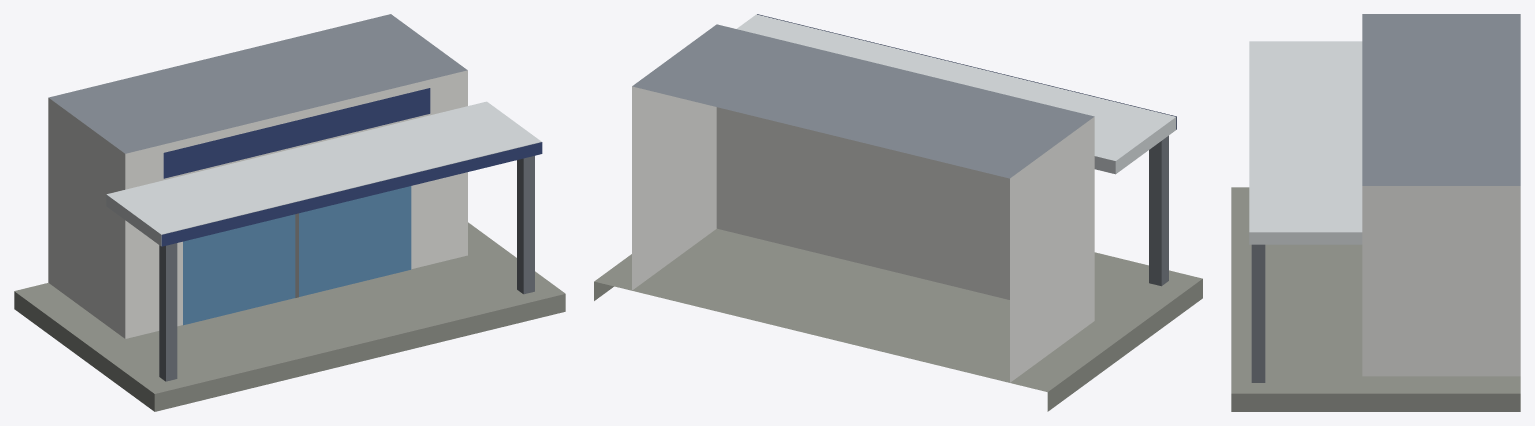
The model's file is entrance.fbx.
3 renders of one model, left to right at view 1: azimuth 30°, elevation 25°; view 2: azimuth 150°, elevation 25°; view 3: azimuth 270°, elevation 25°, orthographic. The views are drawn at different scales.
Parts seen in each view (by area): view 1: a1028/0/entrance; view 2: a1028/0/entrance; view 3: a1028/0/entrance.
Part boxes in pixels (x1,y1,x2,y2): a1028/0/entrance: [14, 14, 565, 411]; a1028/0/entrance: [594, 14, 1202, 411]; a1028/0/entrance: [1231, 14, 1520, 411].
Bounding box in the file's own units: 10.8 × 5.1 × 6.4.
